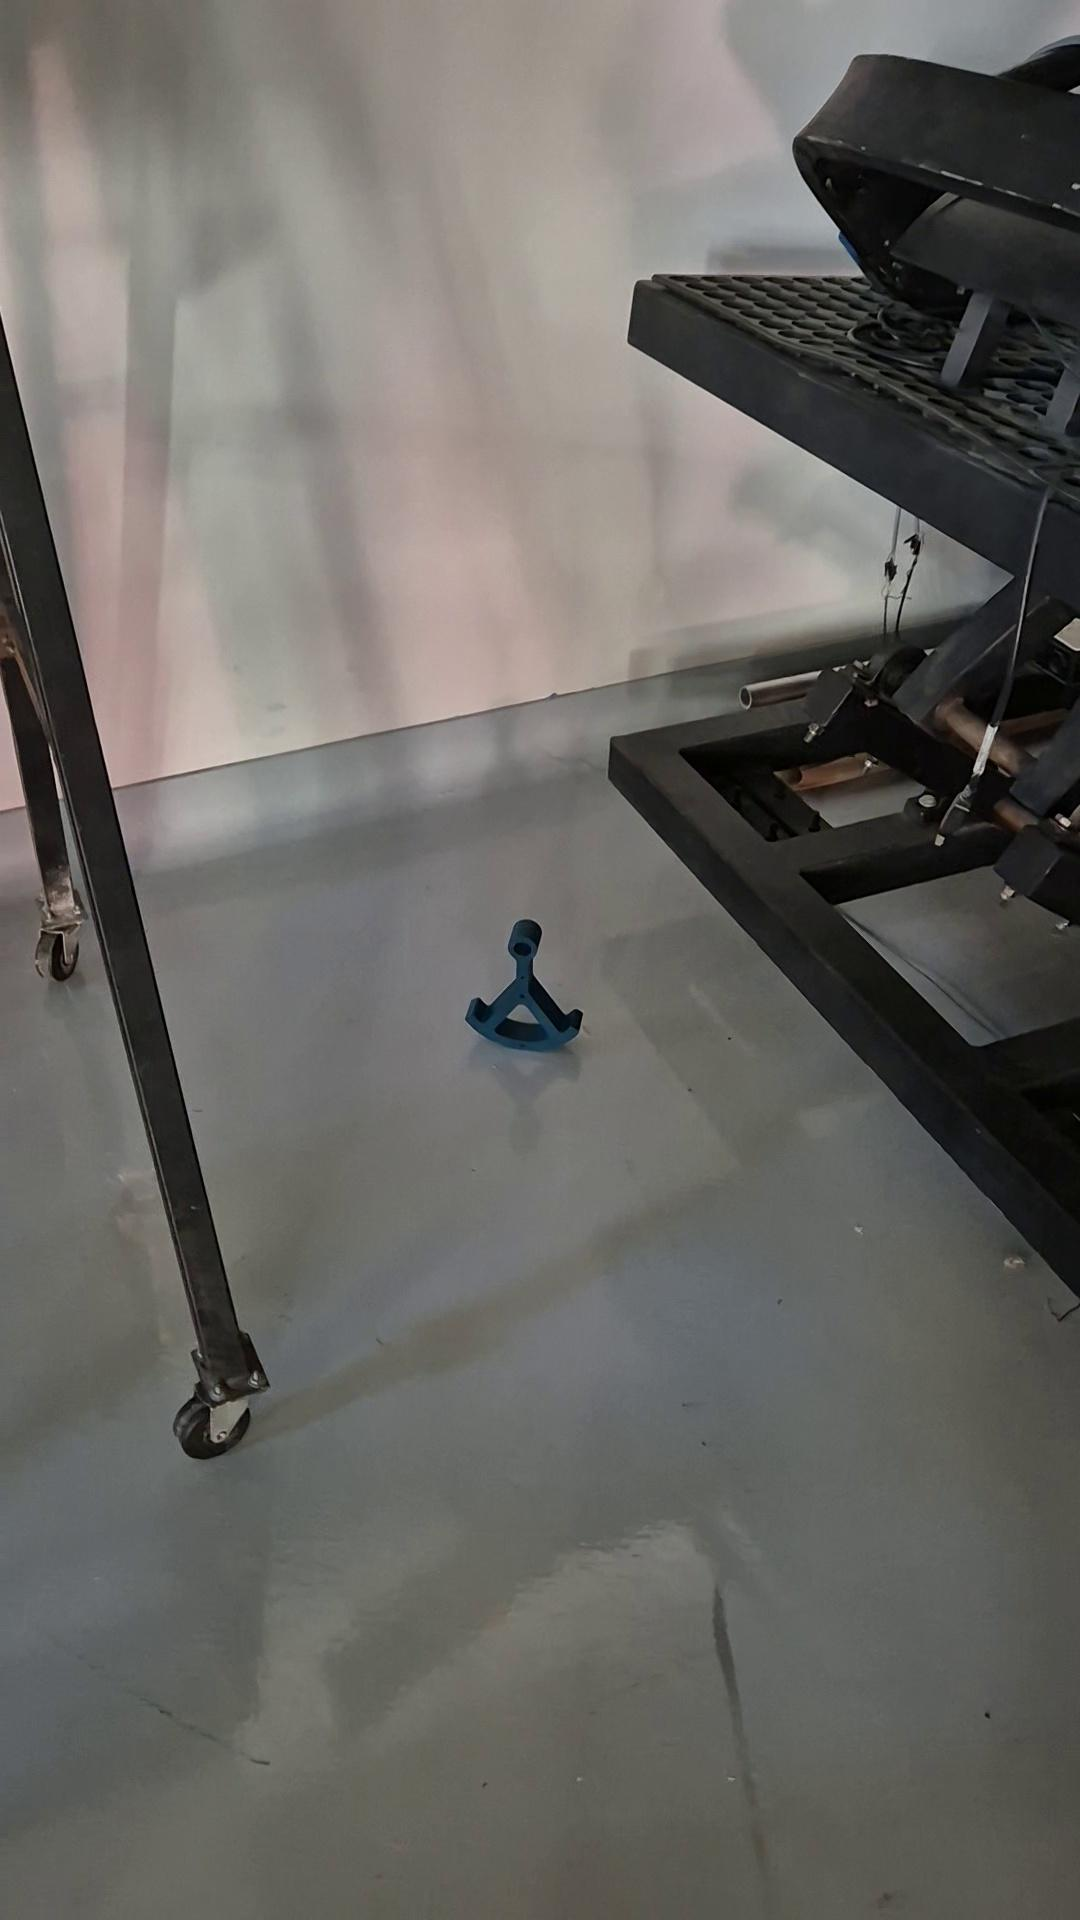Paddles: (463, 918, 584, 1054)
